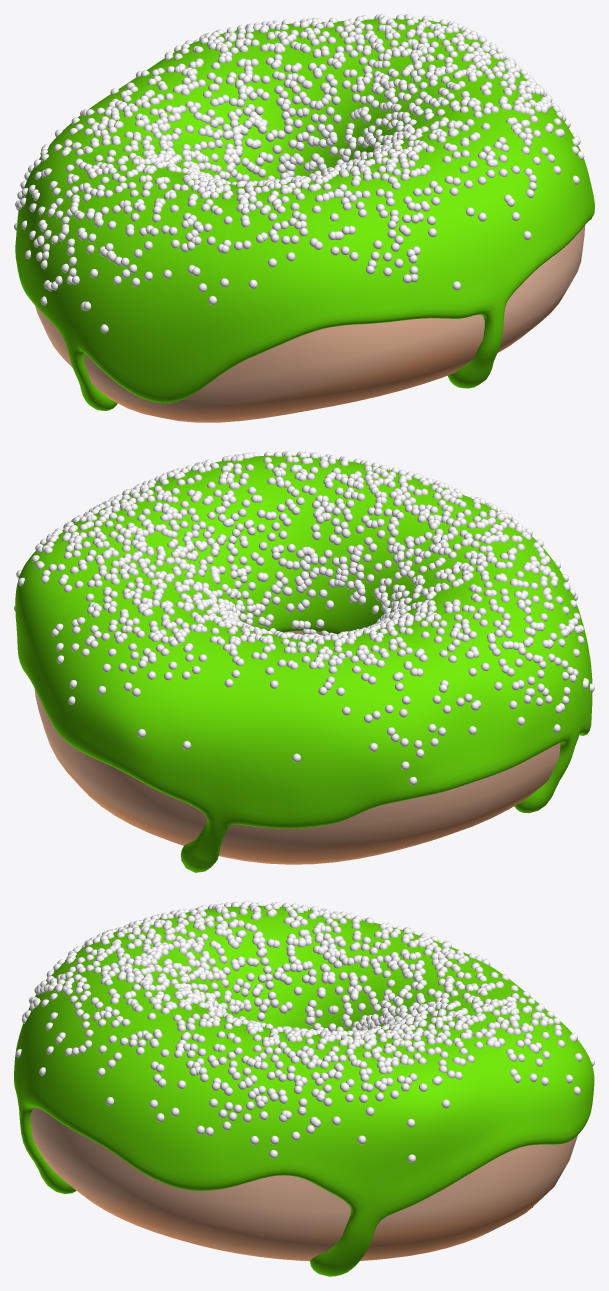
File: single_donut3.glb
3 views of the same model, one above another, from view 1: azimuth 30°, elevation 25°; view 2: azimuth 150°, elevation 25°; view 3: azimuth 270°, elevation 25° (orthographic). The views are drawn at different scales.
Parts seen in each view (by area): view 1: Donut.013, Donut.012; view 2: Donut.013, Donut.012; view 3: Donut.013, Donut.012.
Boxes of the visible parts, bbox=[...] form: Donut.013: bbox=[15, 18, 594, 410]; Donut.012: bbox=[35, 225, 585, 422]; Donut.013: bbox=[15, 455, 592, 872]; Donut.012: bbox=[34, 631, 578, 864]; Donut.013: bbox=[14, 905, 594, 1276]; Donut.012: bbox=[30, 1107, 577, 1261].
Size of the model in its own units: 1.03 by 0.5055 by 1.04.
Materials: 3 (1 with a texture image).
